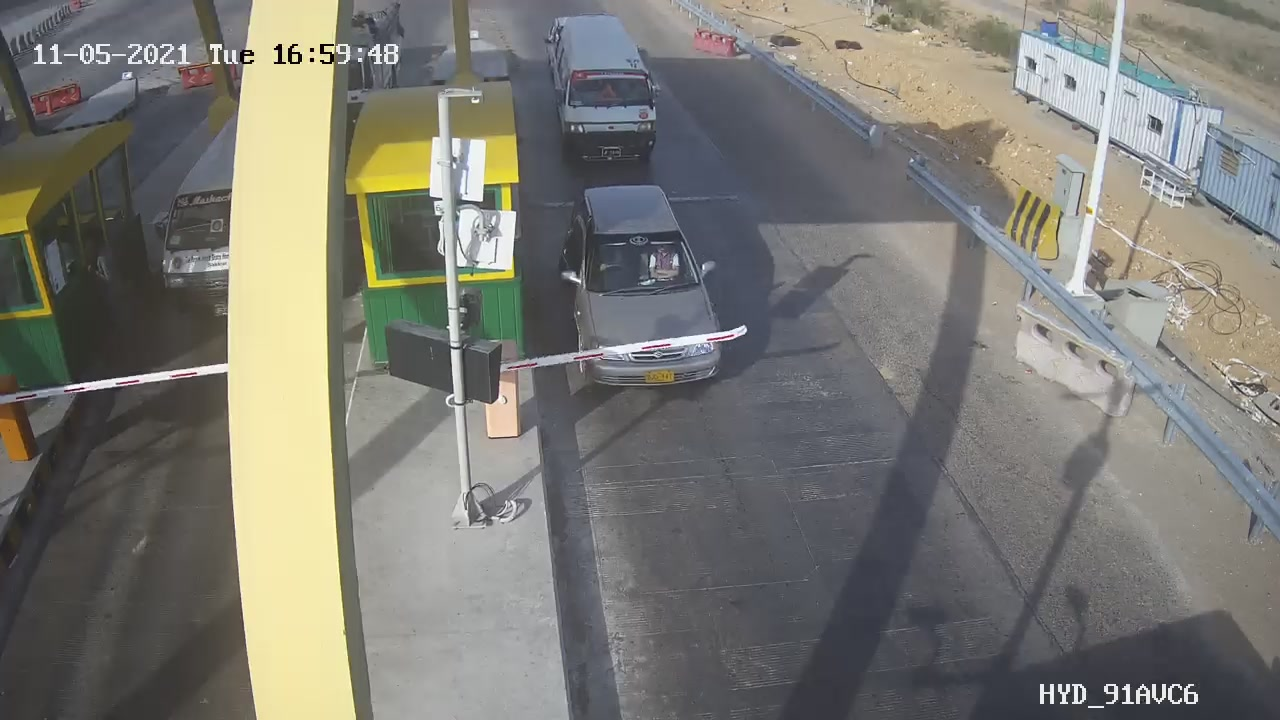F1: (544, 174, 744, 405)
F2: (532, 13, 671, 163)
